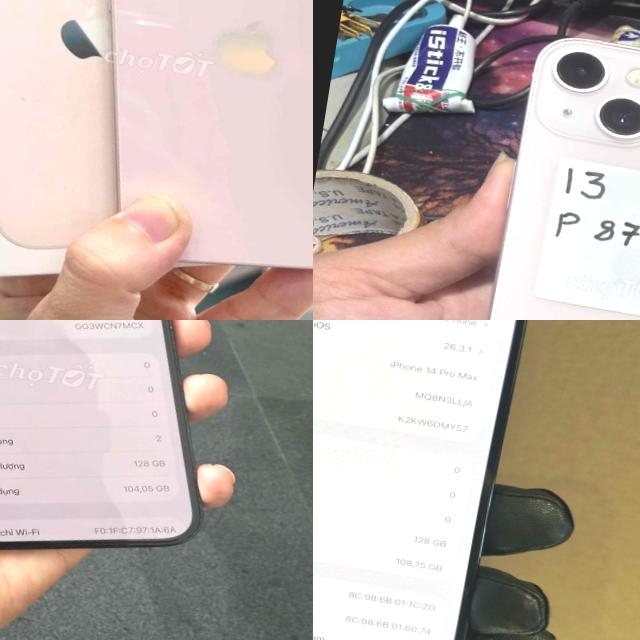gen_12_13: (40, 0, 313, 299), (451, 23, 640, 320)
gen_14: (313, 320, 542, 640), (0, 320, 258, 575)
